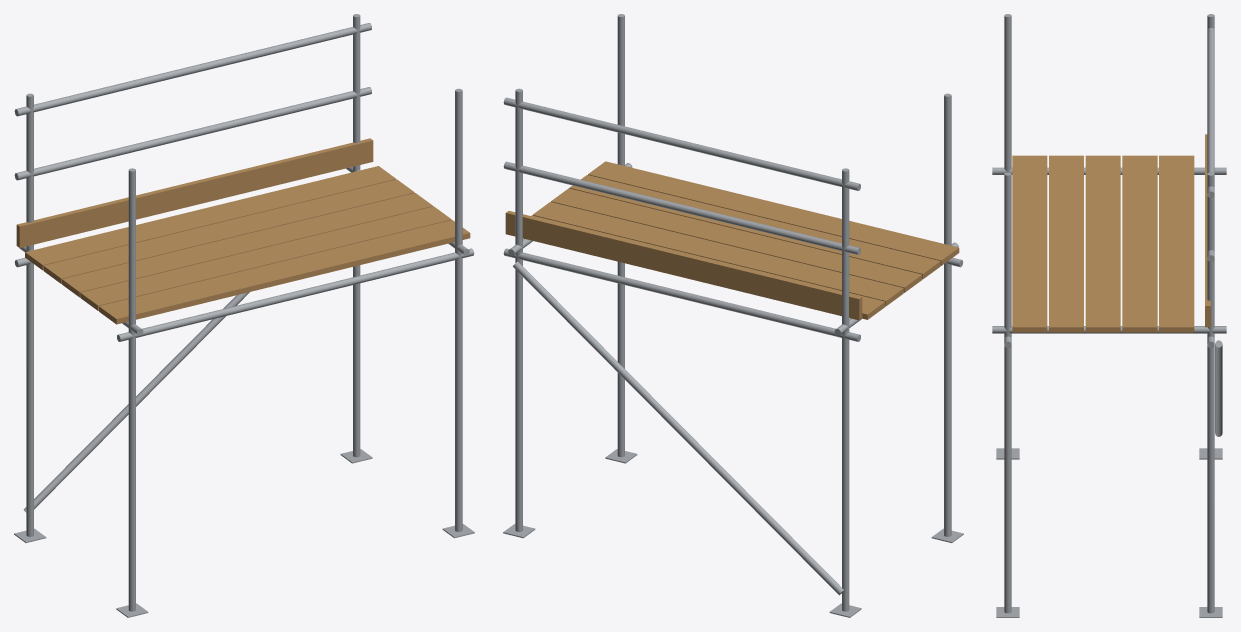
File: plant.scaffold.bay.glb
3 renders of one model, left to right at view 1: azimuth 30°, elevation 25°; view 2: azimuth 150°, elevation 25°; view 3: azimuth 270°, elevation 25°, orthographic.
Parts seen in each view (by area): view 1: boards__softwood, frame__steel_galvanised, guardrail__steel_galvanised; view 2: boards__softwood, frame__steel_galvanised, guardrail__steel_galvanised; view 3: boards__softwood, frame__steel_galvanised, guardrail__steel_galvanised.
Boxes of the visible parts, x1=… form: boards__softwood: x1=16, y1=138, x2=470, y2=324; frame__steel_galvanised: x1=14, y1=14, x2=474, y2=617; guardrail__steel_galvanised: x1=14, y1=23, x2=371, y2=180; boards__softwood: x1=505, y1=161, x2=959, y2=320; frame__steel_galvanised: x1=503, y1=14, x2=963, y2=617; guardrail__steel_galvanised: x1=503, y1=97, x2=860, y2=255; boards__softwood: x1=1012, y1=134, x2=1210, y2=332; frame__steel_galvanised: x1=992, y1=14, x2=1226, y2=617; guardrail__steel_galvanised: x1=1207, y1=28, x2=1214, y2=261.
Size of the model in its own units: 2.6 by 3.1 by 1.5.
